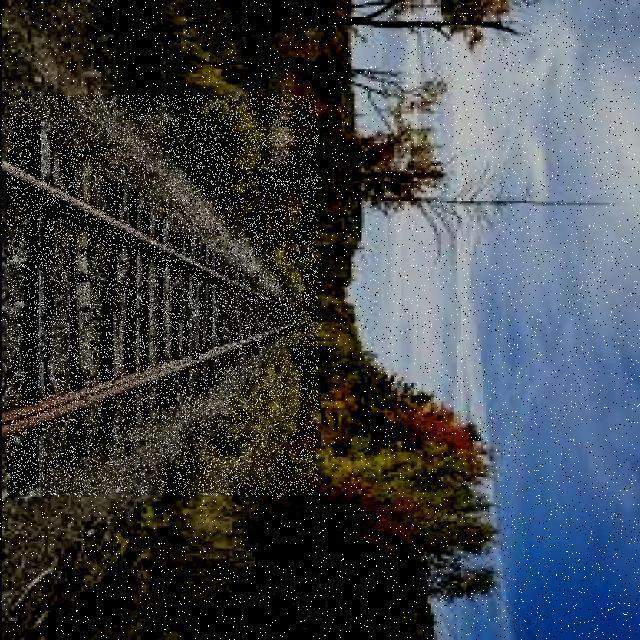rail: (8, 96, 318, 495)
